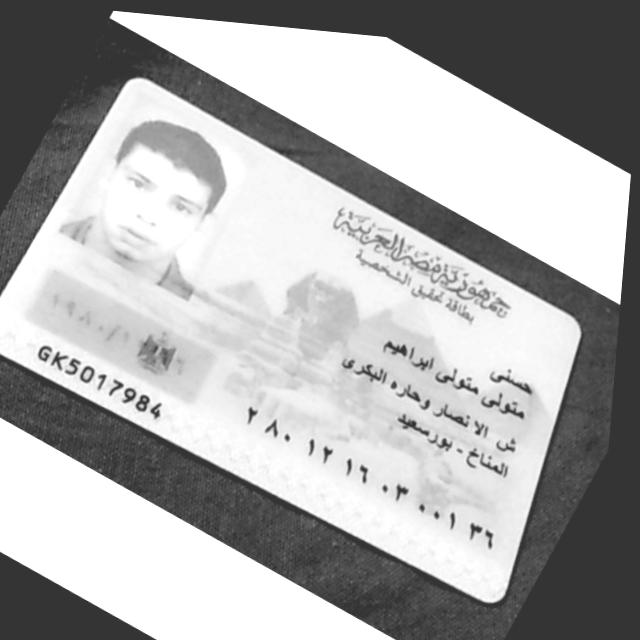front: (0, 76, 580, 598)
